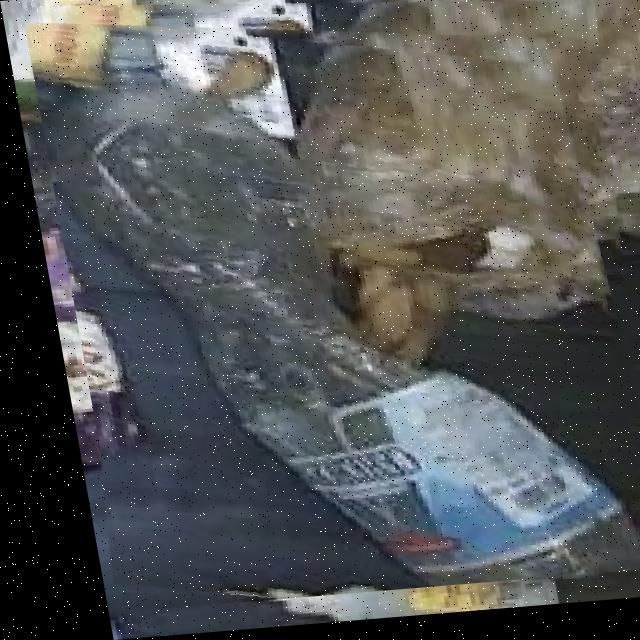litter: (23, 0, 640, 611)
